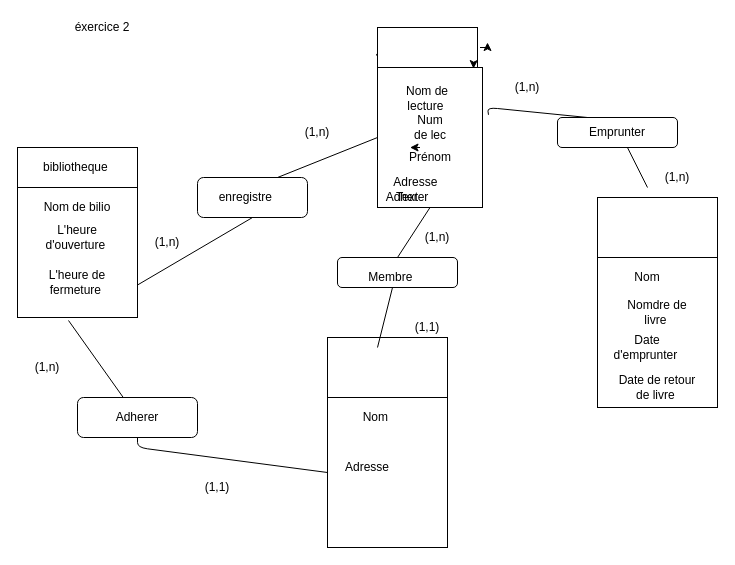
Image size: 735x565. Some labels were removed from this diagram. Each missing label, with the centre of its shape:
"Lecture" goes at pixel 427 47.
"Livre" goes at pixel 657 227.
"Societe adhérente" goes at pixel 387 367.
